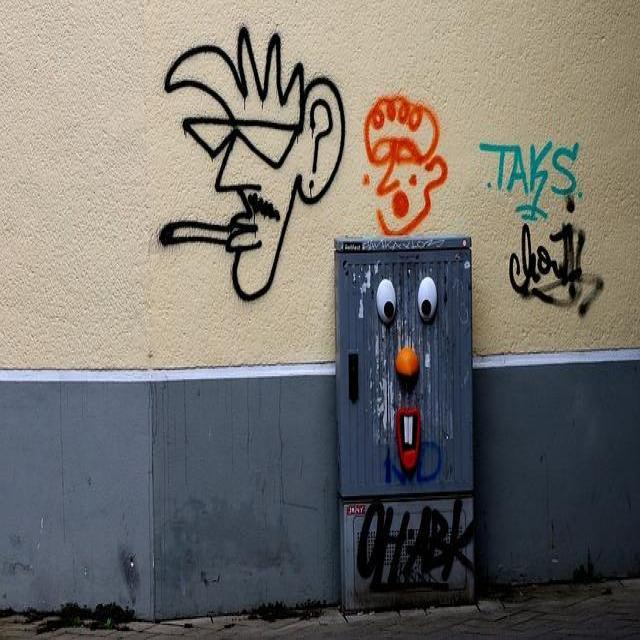nonspitting: (156, 23, 348, 304), (362, 92, 447, 238), (508, 195, 605, 318), (354, 500, 478, 590), (480, 138, 582, 223)
spitting: (376, 273, 438, 473)
